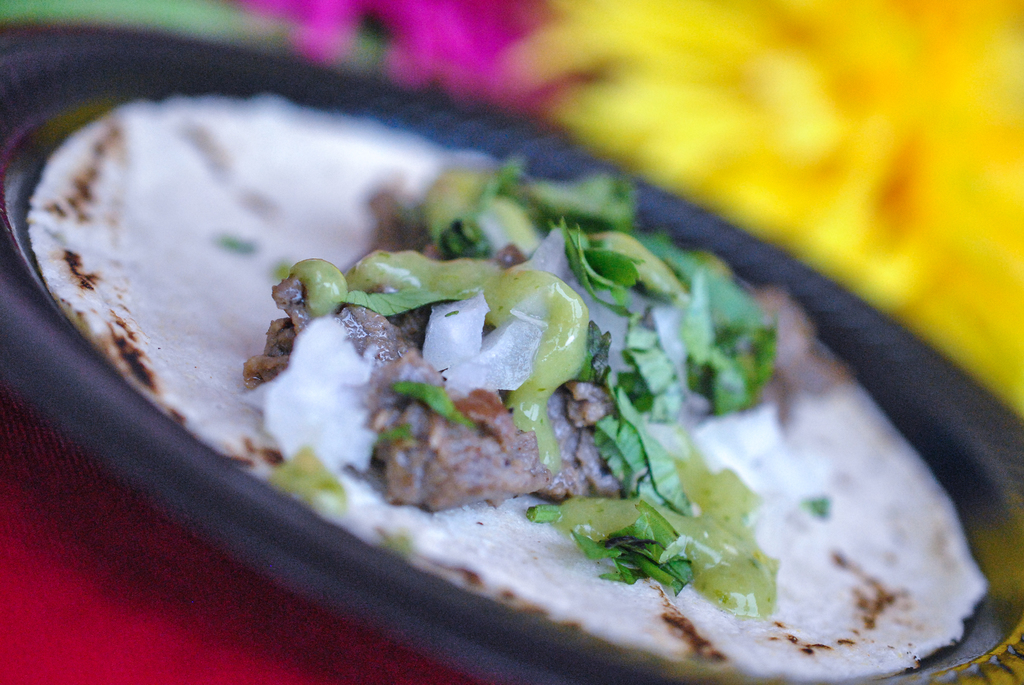taco: (97, 102, 1017, 671)
